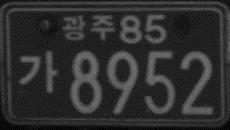2: (180, 49, 215, 116)
5: (144, 49, 175, 116), (145, 12, 167, 44)
8: (68, 50, 103, 113), (119, 15, 143, 45)
9: (105, 49, 138, 115)
가: (18, 49, 59, 94)
광주_O: (61, 14, 115, 41)
